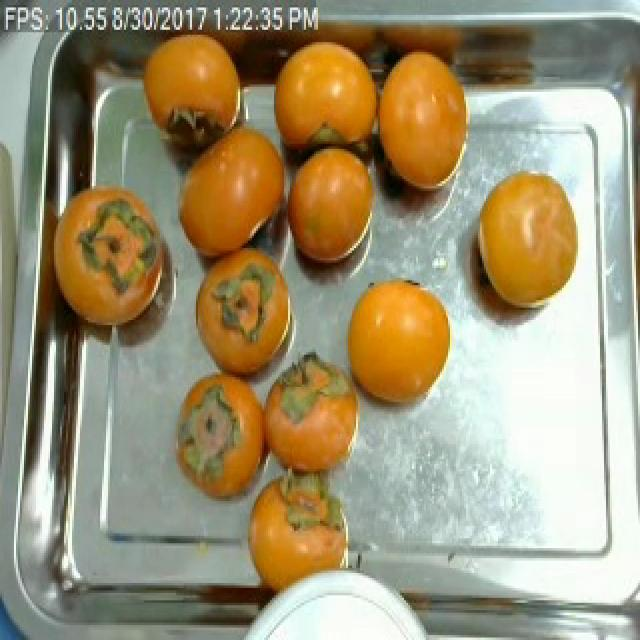Fruit: (162, 109, 286, 275), (462, 161, 590, 320), (336, 266, 460, 427), (374, 35, 482, 211), (124, 25, 258, 166), (268, 25, 380, 176), (236, 461, 364, 593), (286, 129, 380, 300)
